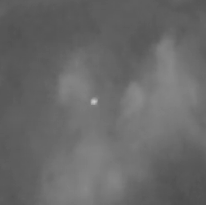Target: (92, 99, 98, 104)
